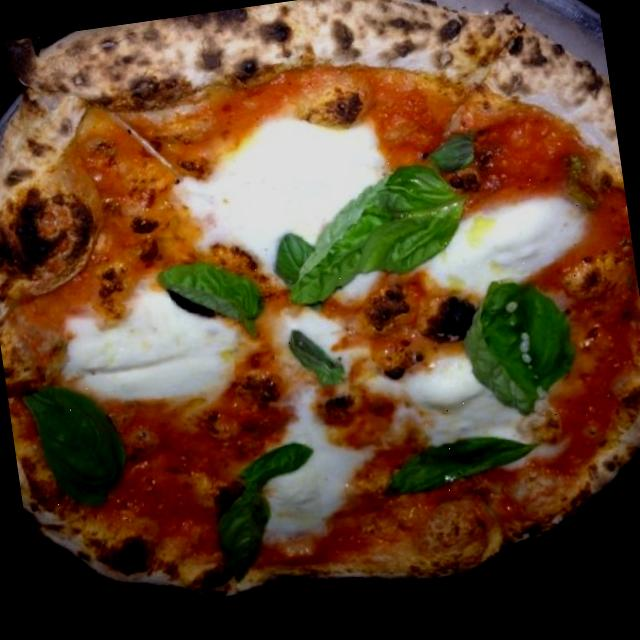basil: (263, 137, 502, 307), (431, 271, 586, 436), (4, 355, 145, 526), (206, 432, 332, 587), (361, 416, 544, 512), (166, 247, 284, 353), (284, 334, 356, 402)
cheese: (200, 91, 402, 296), (41, 290, 239, 426), (413, 170, 594, 310), (368, 343, 532, 486), (251, 408, 382, 560)
pizza: (0, 0, 640, 596)
